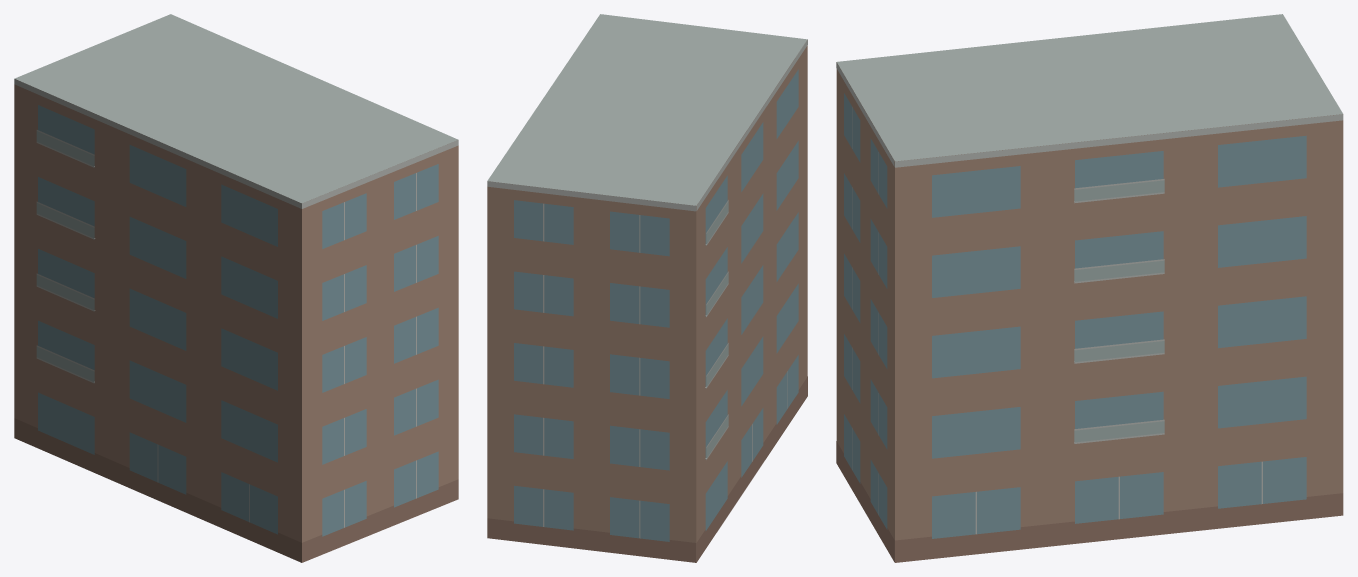
Rendered from survey-upis-32924953.glb.
3 renders of one model, left to right at view 1: azimuth 30°, elevation 25°; view 2: azimuth 150°, elevation 25°; view 3: azimuth 270°, elevation 25°, orthographic. The views are drawn at different scales.
Visible parts, largest first — view 1: survey-upis-32924953.tmp; view 2: survey-upis-32924953.tmp; view 3: survey-upis-32924953.tmp.
Boxes of the visible parts, x1,y1,x2,y2 form: survey-upis-32924953.tmp: (14,14,458,562); survey-upis-32924953.tmp: (487,14,807,562); survey-upis-32924953.tmp: (836,14,1343,562).
Size of the model in its own units: 12.22 by 15.5 by 17.75.
